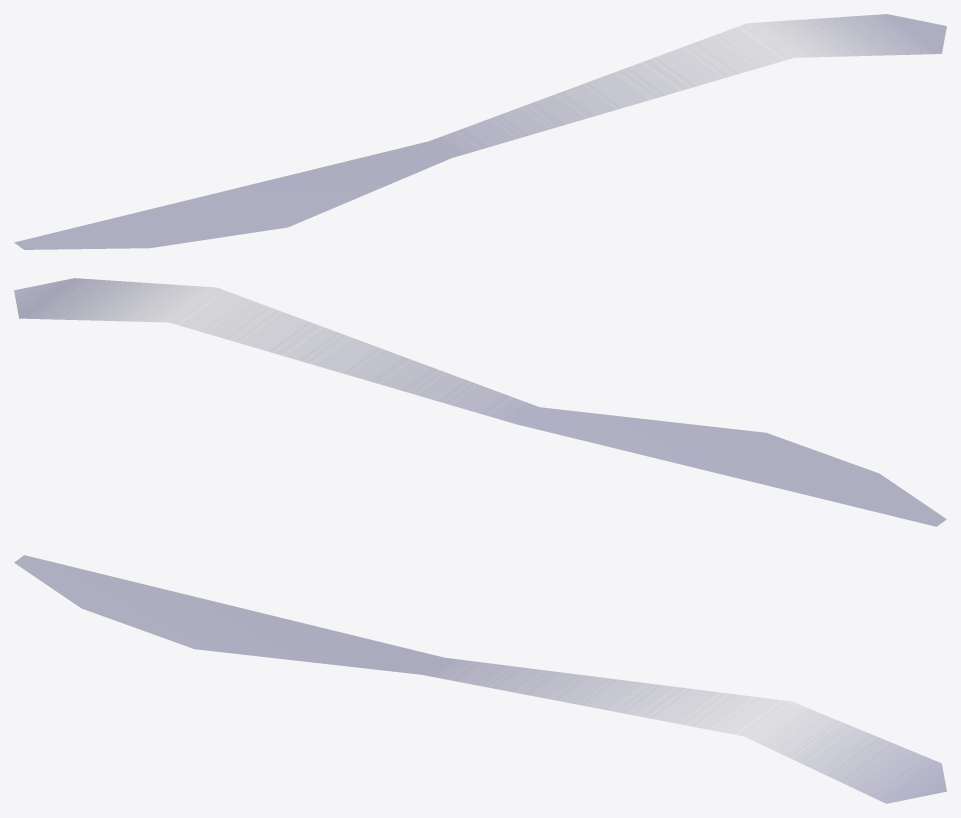
File: knife_butter.glb
The picture shows the model from 3 angles, top to bottom: view 1: azimuth 30°, elevation 25°; view 2: azimuth 150°, elevation 25°; view 3: azimuth 330°, elevation 25°; orthographic projection.
Parts seen in each view (by area): view 1: knife_butter; view 2: knife_butter; view 3: knife_butter.
Boxes of the visible parts, <box> form: knife_butter: <box>14,14,946,249</box>; knife_butter: <box>14,278,946,526</box>; knife_butter: <box>14,555,946,803</box>.
Size of the model in its own units: 0.21 by 0.00622 by 0.0272.
Materials: 1 (1 with a texture image).
